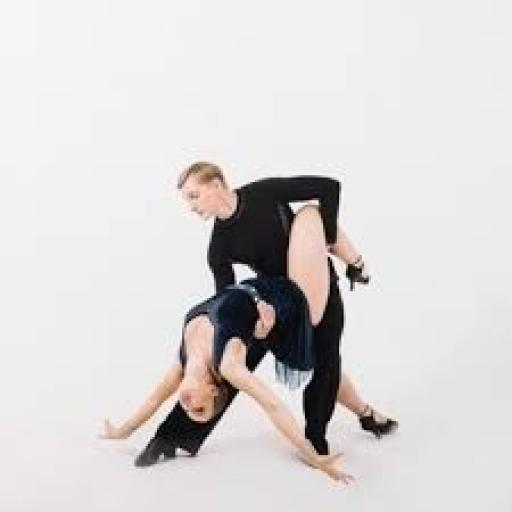dancing: (170, 159, 400, 460), (94, 273, 358, 489)
